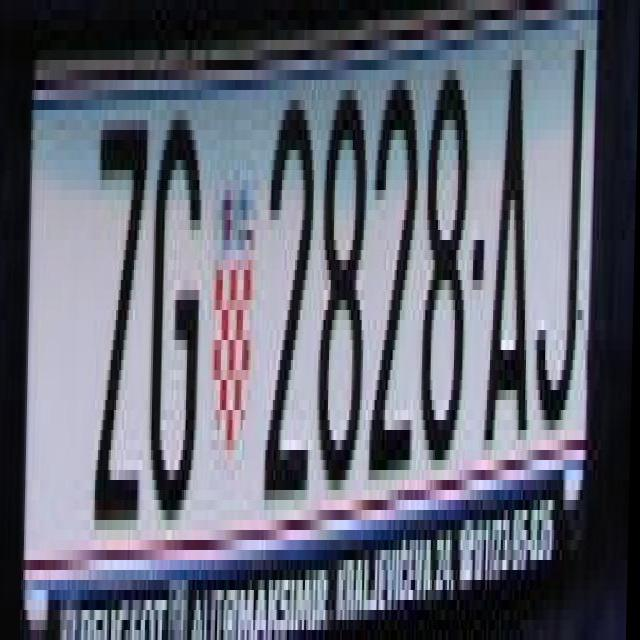2: (260, 90, 320, 500), (369, 70, 423, 480)
8: (313, 90, 367, 490), (418, 60, 469, 450)
A: (484, 40, 538, 440)
G: (148, 110, 206, 530)
Z: (90, 100, 149, 520)
